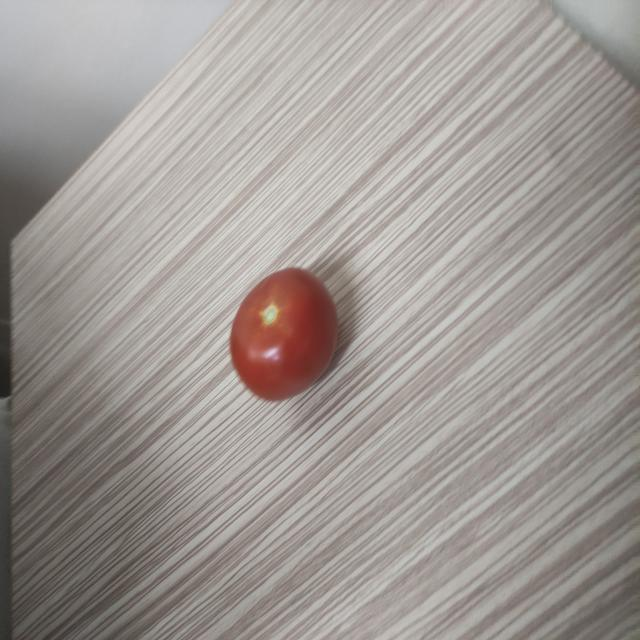kirmizi: (224, 269, 346, 415)
